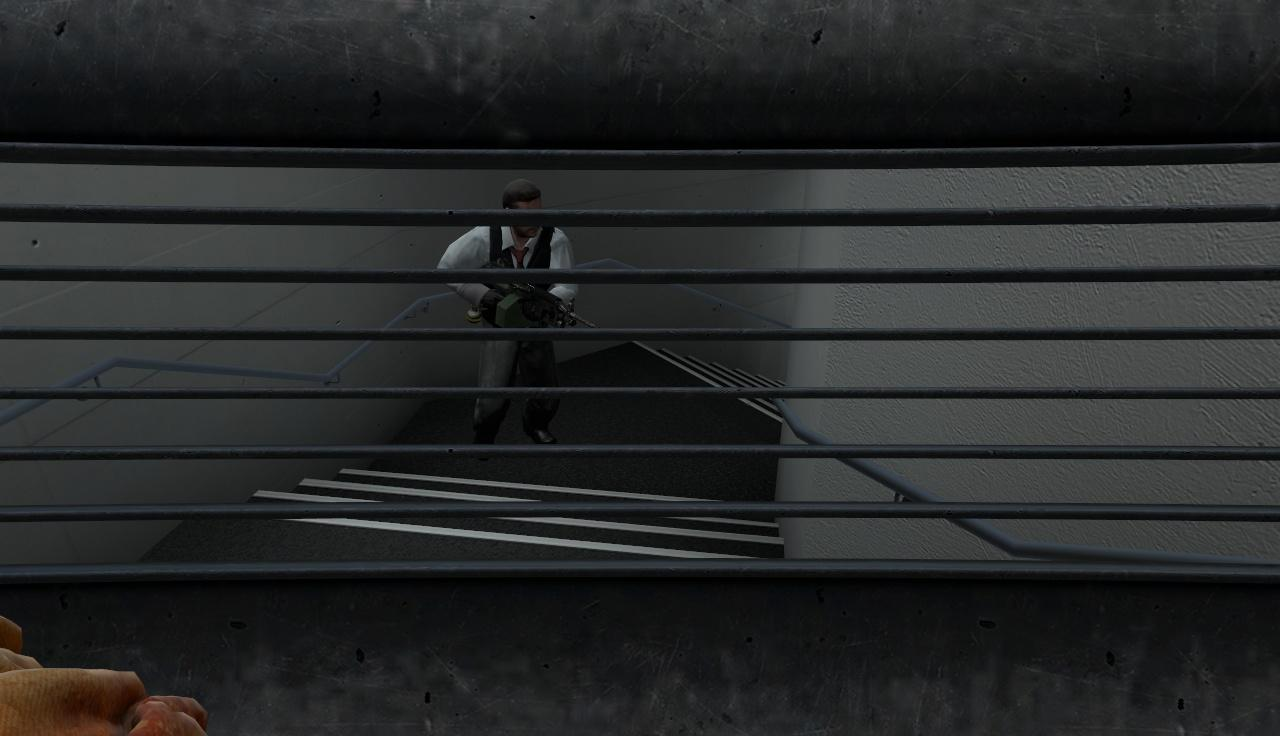tt: (437, 179, 574, 444)
tthead: (504, 179, 542, 238)
